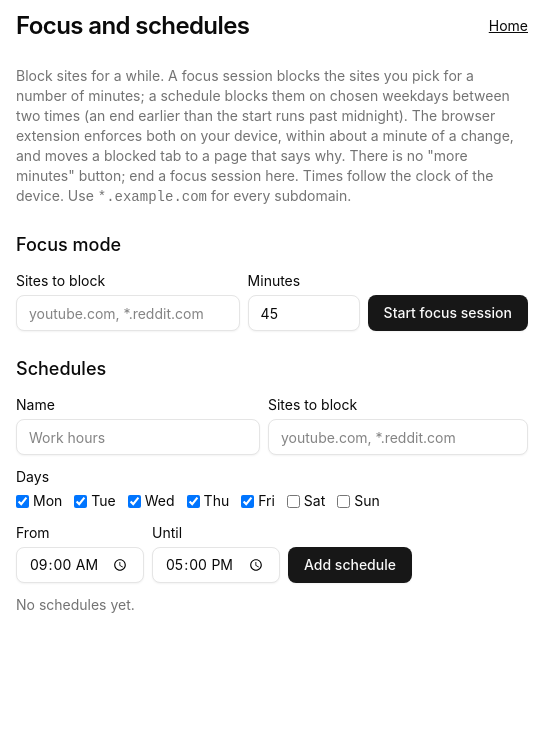
Test: schedules › adds a schedule with the chosen days and times
The width and height of the screenshot is (545, 738).
Expected: the text "No schedules yet." is shown, x1=16 y1=596 x2=135 y2=613
Type "Night" into the field labelled "Name" at (138, 437), box x1=16 y1=419 x2=260 y2=455
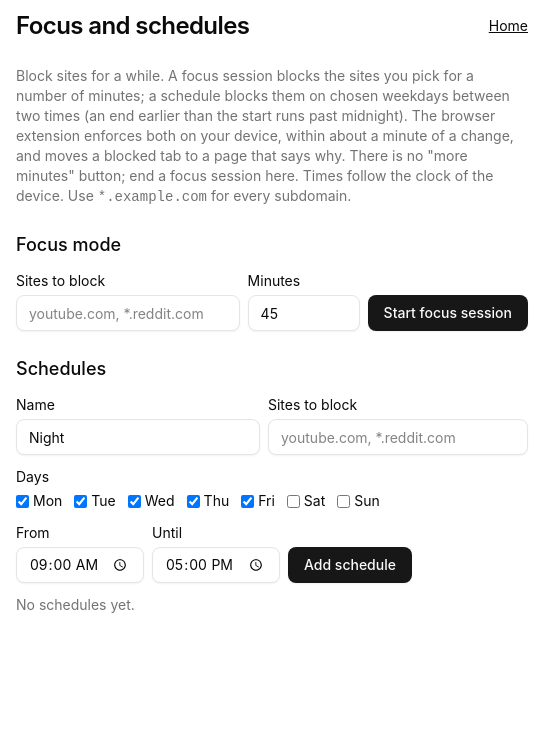
Type "reddit.com" into the field labelled "Sites to block" below "Name" at (398, 437), box x1=268 y1=419 x2=528 y2=455
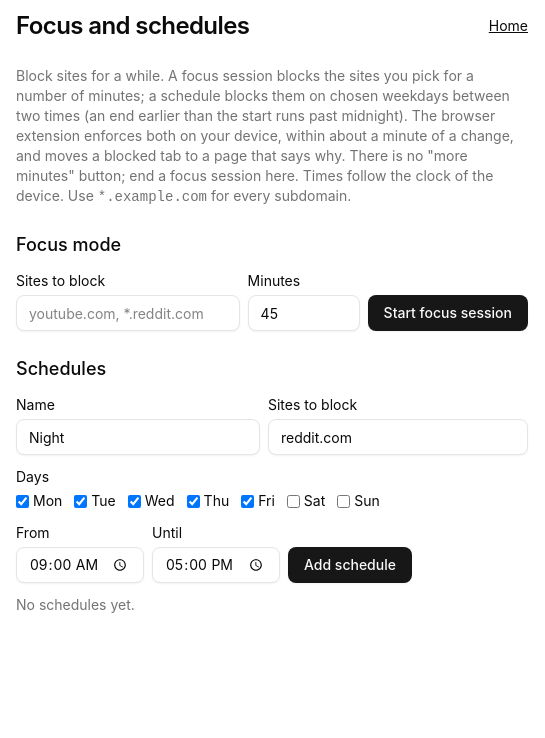
Replace the text in the time field labelled "From" with "23:00" at (80, 565), box x1=16 y1=547 x2=144 y2=583
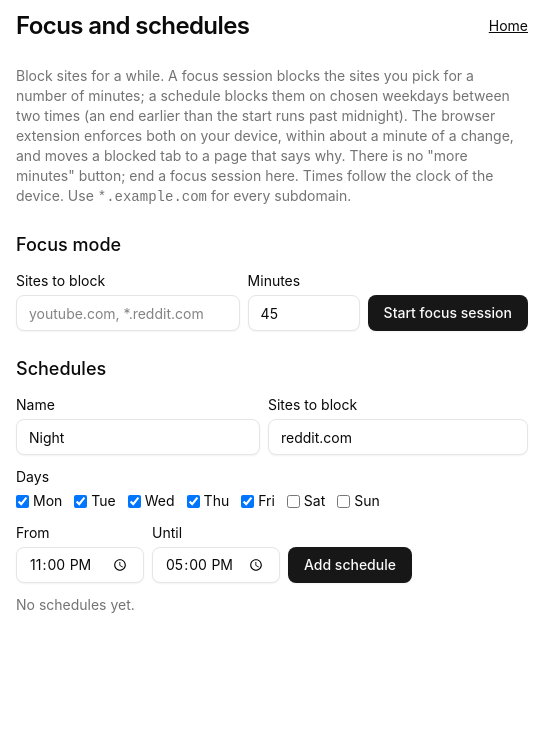
Replace the text in the time field labelled "Until" with "07:00" at (216, 565), box x1=152 y1=547 x2=280 y2=583
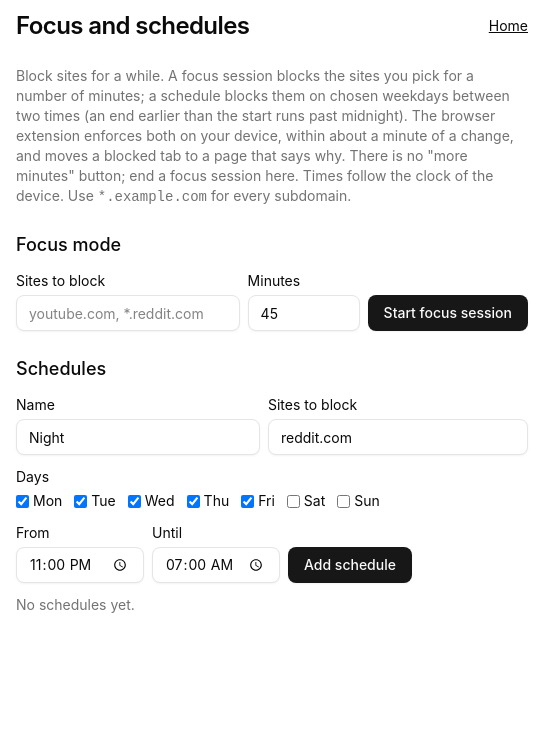
Click the checkbox labelled "Sat" at (293, 501), box x1=287 y1=494 x2=300 y2=508
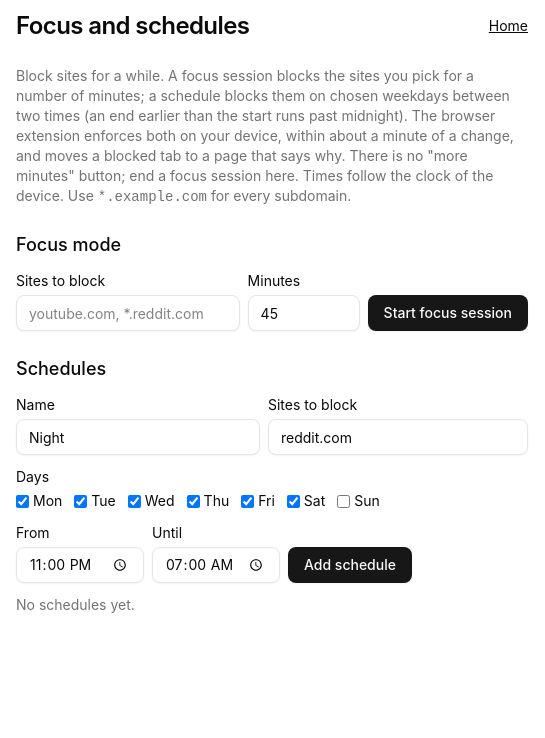
Click the button "Add schedule" at (350, 565), box x1=288 y1=547 x2=412 y2=583
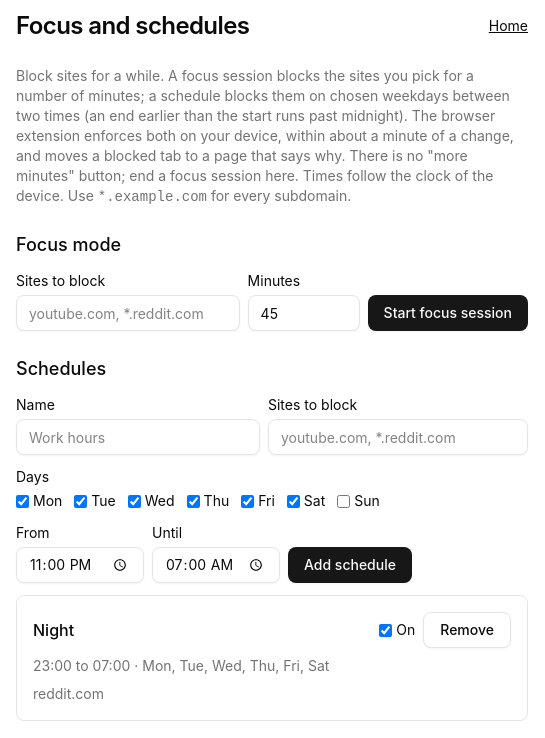
Expected: the text "Night" is shown, x1=33 y1=620 x2=74 y2=640
Expected: the text "23:00 to 07:00 · Mon, Tue, Wed, Thu, Fri, Sat" is shown, x1=33 y1=657 x2=329 y2=674
